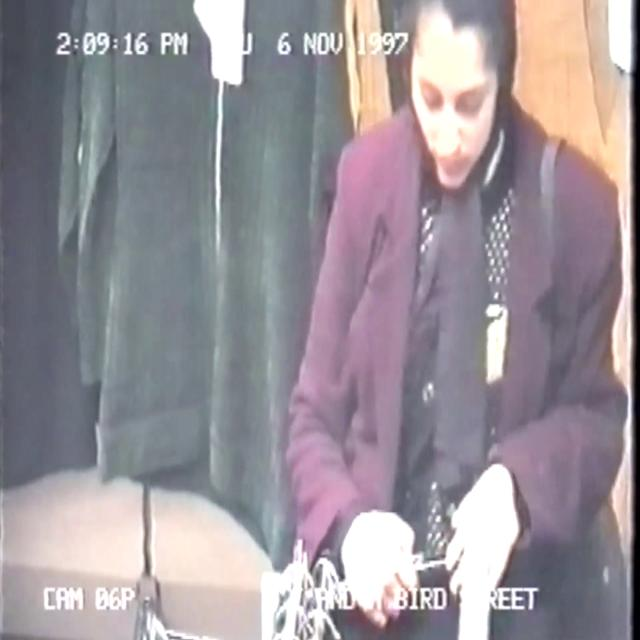Product: (323, 533, 464, 640)
shoplifting: (206, 0, 640, 640)
